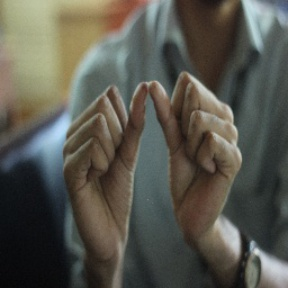A: (68, 73, 241, 200)
